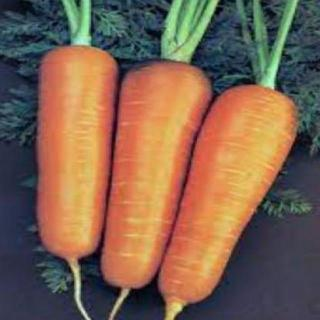carrot: (160, 86, 296, 306), (101, 60, 211, 293), (35, 44, 121, 270)
